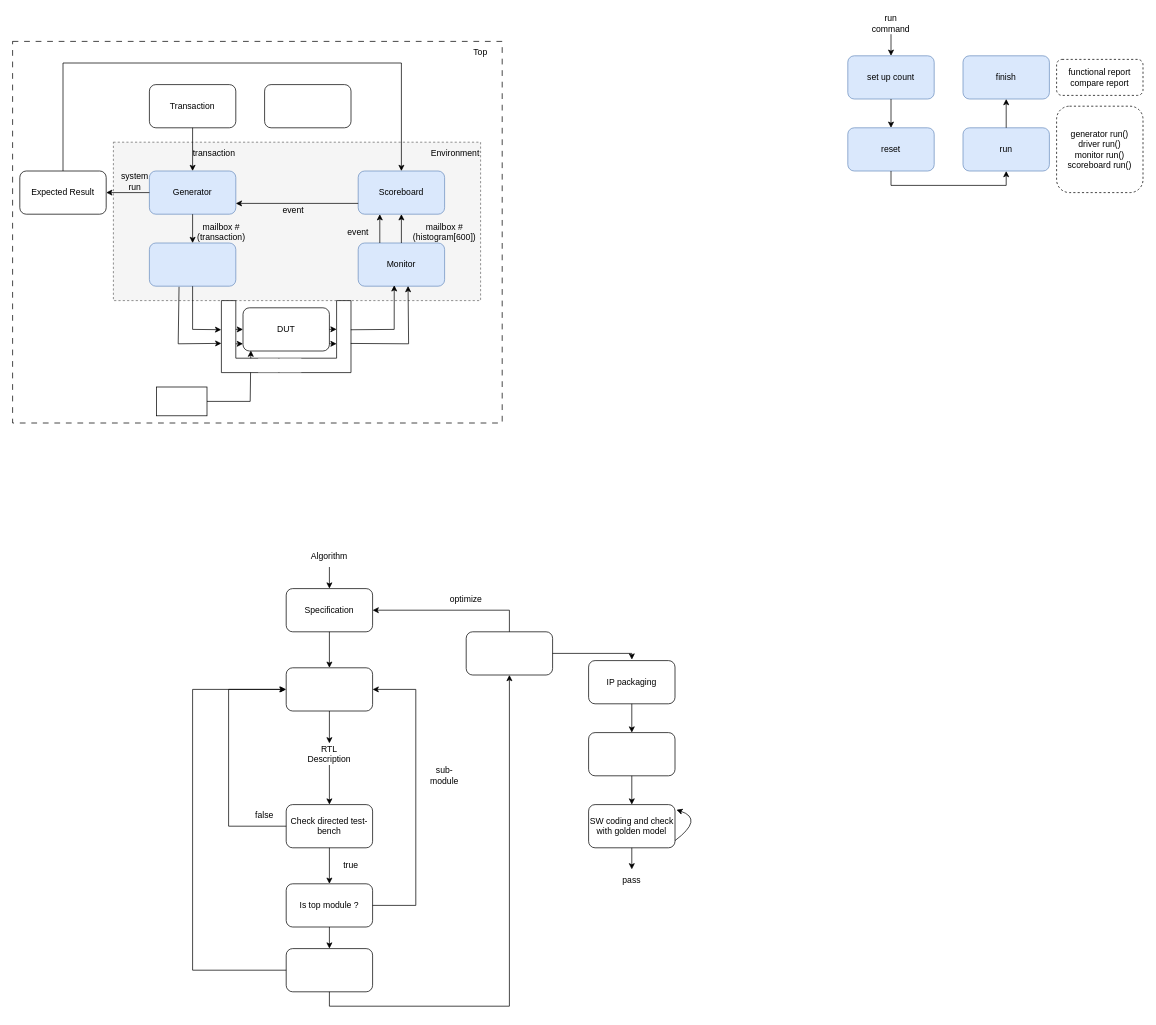
The diagram is 1156 pixels wide and 1025 high, and some of its shapes have lost their labels. Here are the shapes that lost their labels. From the top down, the centre of each, then its label:
At (x=307, y=106): "Functional Coverage".
At (x=192, y=264): "Driver".
At (x=279, y=365): "Interface".
At (x=181, y=401): "Clock".
At (x=509, y=653): "Logic synthesis".
At (x=329, y=689): "Convert to RTL".
At (x=631, y=754): "Block design and generate bitstream".
At (x=329, y=970): "Check layered test-bench".
